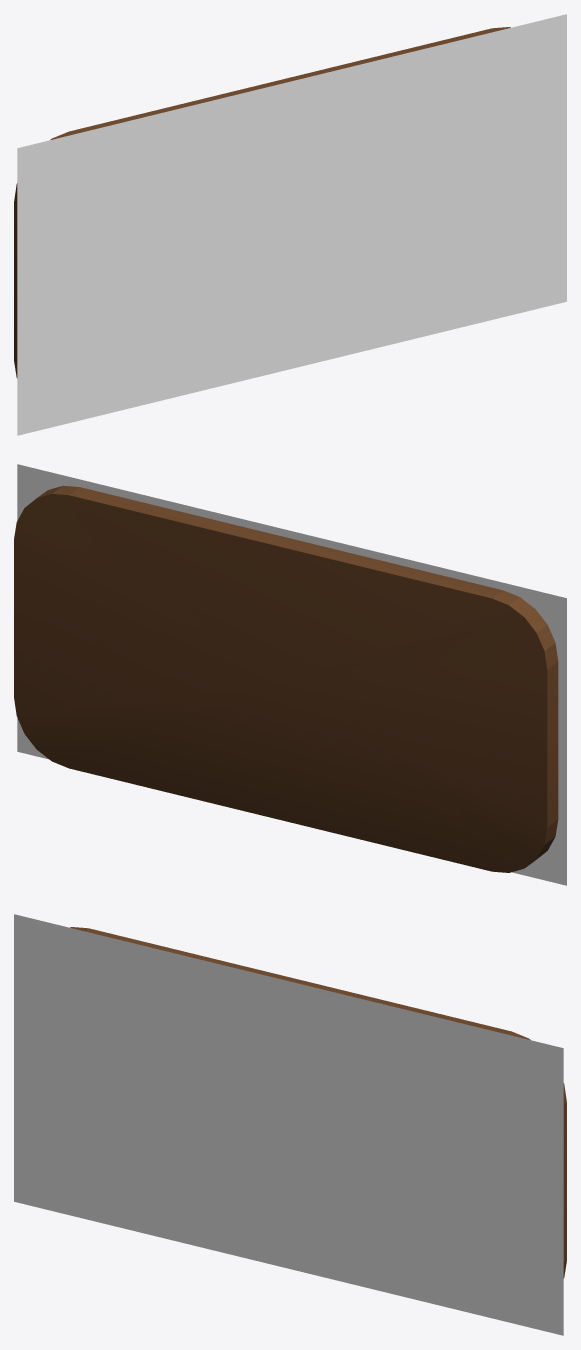
Rendered from furn_studio_sign.glb.
The picture shows the model from 3 angles, top to bottom: view 1: azimuth 30°, elevation 25°; view 2: azimuth 150°, elevation 25°; view 3: azimuth 330°, elevation 25°; orthographic projection.
Parts seen in each view (by area): view 1: furn_studio_sign_pic, furn_studio_sign_main; view 2: furn_studio_sign_main, furn_studio_sign_pic; view 3: furn_studio_sign_pic, furn_studio_sign_main.
Boxes of the visible parts, left/top/right/bottom form: furn_studio_sign_pic: left=17, top=14, right=566, bottom=435; furn_studio_sign_main: left=14, top=27, right=510, bottom=378; furn_studio_sign_main: left=14, top=485, right=558, bottom=872; furn_studio_sign_pic: left=17, top=464, right=566, bottom=885; furn_studio_sign_pic: left=14, top=914, right=563, bottom=1335; furn_studio_sign_main: left=70, top=927, right=566, bottom=1278.
Size of the model in its own units: 2 by 1 by 0.073.
